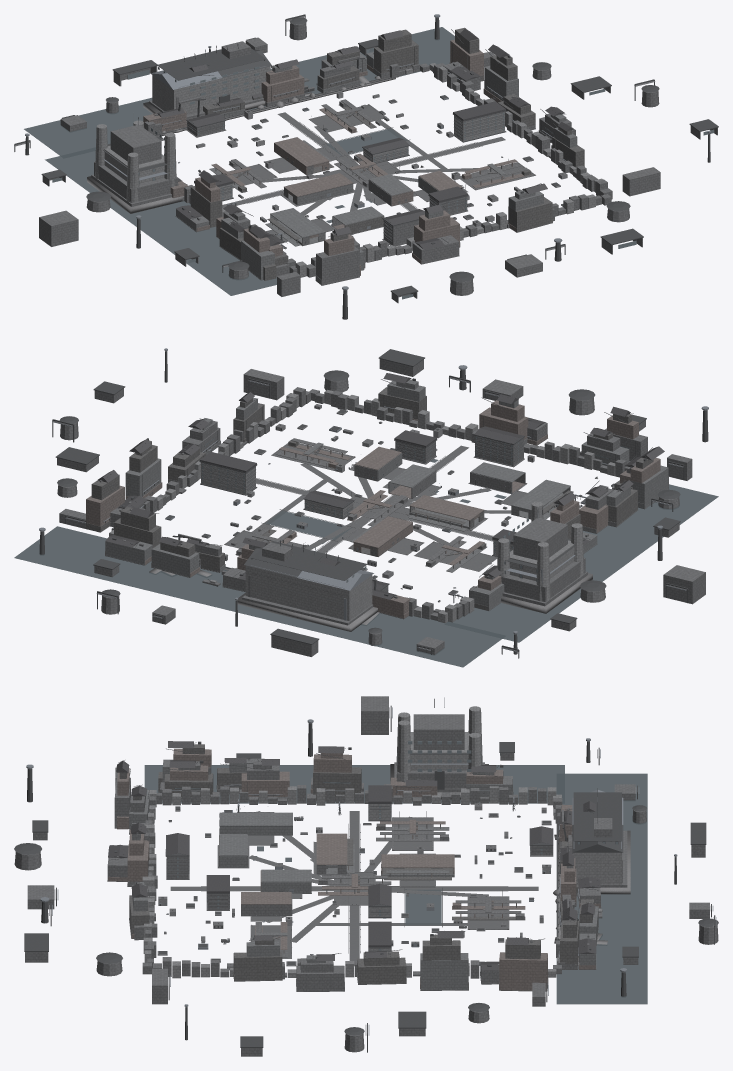
3 renders of one model, top to bottom at view 1: azimuth 30°, elevation 25°; view 2: azimuth 150°, elevation 25°; view 3: azimuth 270°, elevation 25°, orthographic. The views are drawn at different scales.
Visible parts, largest first — view 1: HB_z03_LOD0_wall_alt, HB_z03_LOD0_water, HB_z03_LOD0_wall_warm, HB_z03_LOD0_trim, HB_z03_LOD0_wall_weathered, HB_z03_LOD0_wall_cool, HB_z03_LOD0_road, HB_z03_LOD0_roof, HB_z03_LOD0_wall, HB_z03_LOD0_LANDMARK_1_wall_alt, HB_z03_LOD0_LANDMARK_0_wall, HB_z03_LOD0_LANDMARK_1_wall (+8 smaller); view 2: HB_z03_LOD0_wall_alt, HB_z03_LOD0_water, HB_z03_LOD0_wall_cool, HB_z03_LOD0_wall_warm, HB_z03_LOD0_trim, HB_z03_LOD0_wall_weathered, HB_z03_LOD0_road, HB_z03_LOD0_roof, HB_z03_LOD0_wall, HB_z03_LOD0_LANDMARK_0_wall, HB_z03_LOD0_LANDMARK_1_wall_alt, HB_z03_LOD0_LANDMARK_1_wall (+8 smaller); view 3: HB_z03_LOD0_wall_alt, HB_z03_LOD0_water, HB_z03_LOD0_wall_warm, HB_z03_LOD0_wall_weathered, HB_z03_LOD0_wall_cool, HB_z03_LOD0_trim, HB_z03_LOD0_road, HB_z03_LOD0_roof, HB_z03_LOD0_wall, HB_z03_LOD0_LANDMARK_1_wall, HB_z03_LOD0_LANDMARK_1_wall_alt, HB_z03_LOD0_LANDMARK_0_trim (+4 smaller).
Boxes of the visible parts, left/top/right/bottom form: HB_z03_LOD0_wall_alt: left=39, top=23, right=717, bottom=303; HB_z03_LOD0_water: left=24, top=27, right=454, bottom=295; HB_z03_LOD0_wall_warm: left=143, top=39, right=552, bottom=275; HB_z03_LOD0_trim: left=14, top=14, right=718, bottom=319; HB_z03_LOD0_wall_weathered: left=190, top=27, right=584, bottom=280; HB_z03_LOD0_wall_cool: left=176, top=52, right=577, bottom=285; HB_z03_LOD0_road: left=213, top=105, right=535, bottom=249; HB_z03_LOD0_roof: left=156, top=29, right=573, bottom=249; HB_z03_LOD0_wall: left=189, top=63, right=602, bottom=277; HB_z03_LOD0_LANDMARK_1_wall_alt: left=91, top=124, right=177, bottom=206; HB_z03_LOD0_LANDMARK_0_wall: left=152, top=66, right=270, bottom=114; HB_z03_LOD0_LANDMARK_1_wall: left=95, top=120, right=176, bottom=202; HB_z03_LOD0_wall_alt: left=57, top=359, right=705, bottom=656; HB_z03_LOD0_water: left=14, top=459, right=718, bottom=667; HB_z03_LOD0_wall_cool: left=105, top=379, right=668, bottom=610; HB_z03_LOD0_wall_warm: left=86, top=400, right=660, bottom=618; HB_z03_LOD0_trim: left=39, top=349, right=708, bottom=658; HB_z03_LOD0_wall_weathered: left=86, top=387, right=668, bottom=610; HB_z03_LOD0_road: left=224, top=440, right=597, bottom=602; HB_z03_LOD0_roof: left=98, top=373, right=664, bottom=599; HB_z03_LOD0_wall: left=109, top=389, right=615, bottom=623; HB_z03_LOD0_LANDMARK_0_wall: left=245, top=565, right=372, bottom=620; HB_z03_LOD0_LANDMARK_1_wall_alt: left=498, top=517, right=587, bottom=606; HB_z03_LOD0_LANDMARK_1_wall: left=497, top=502, right=584, bottom=601; HB_z03_LOD0_wall_alt: left=14, top=696, right=718, bottom=1056; HB_z03_LOD0_water: left=144, top=765, right=647, bottom=1004; HB_z03_LOD0_wall_warm: left=108, top=749, right=600, bottom=990; HB_z03_LOD0_wall_weathered: left=119, top=744, right=593, bottom=990; HB_z03_LOD0_wall_cool: left=115, top=758, right=598, bottom=990; HB_z03_LOD0_trim: left=14, top=705, right=718, bottom=1052; HB_z03_LOD0_road: left=169, top=808, right=538, bottom=966; HB_z03_LOD0_roof: left=108, top=741, right=600, bottom=970; HB_z03_LOD0_wall: left=142, top=786, right=601, bottom=978; HB_z03_LOD0_LANDMARK_1_wall: left=396, top=706, right=482, bottom=781; HB_z03_LOD0_LANDMARK_1_wall_alt: left=394, top=714, right=484, bottom=792; HB_z03_LOD0_LANDMARK_0_trim: left=568, top=788, right=623, bottom=852.
Size of the model in its own units: 634 by 77.96 by 558.
14 materials, 12 textured.
